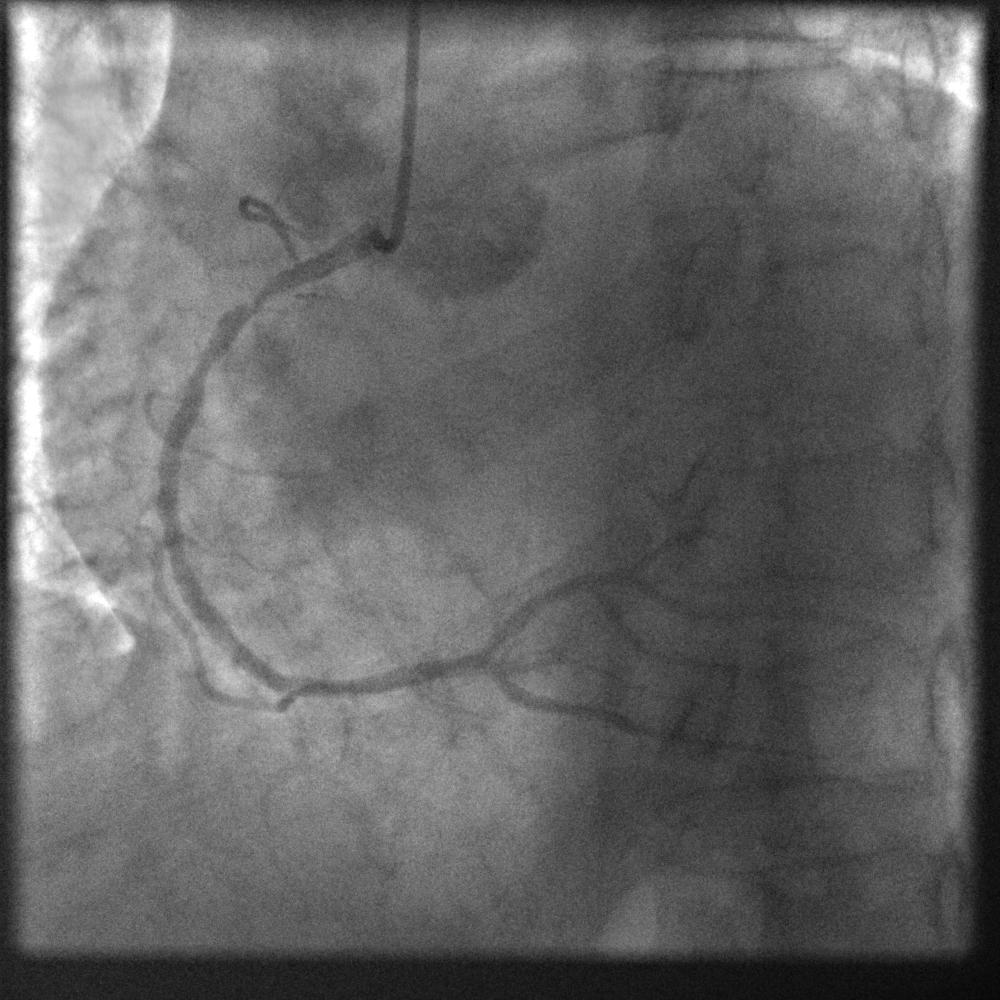Stenosis: (224, 284, 278, 323)
